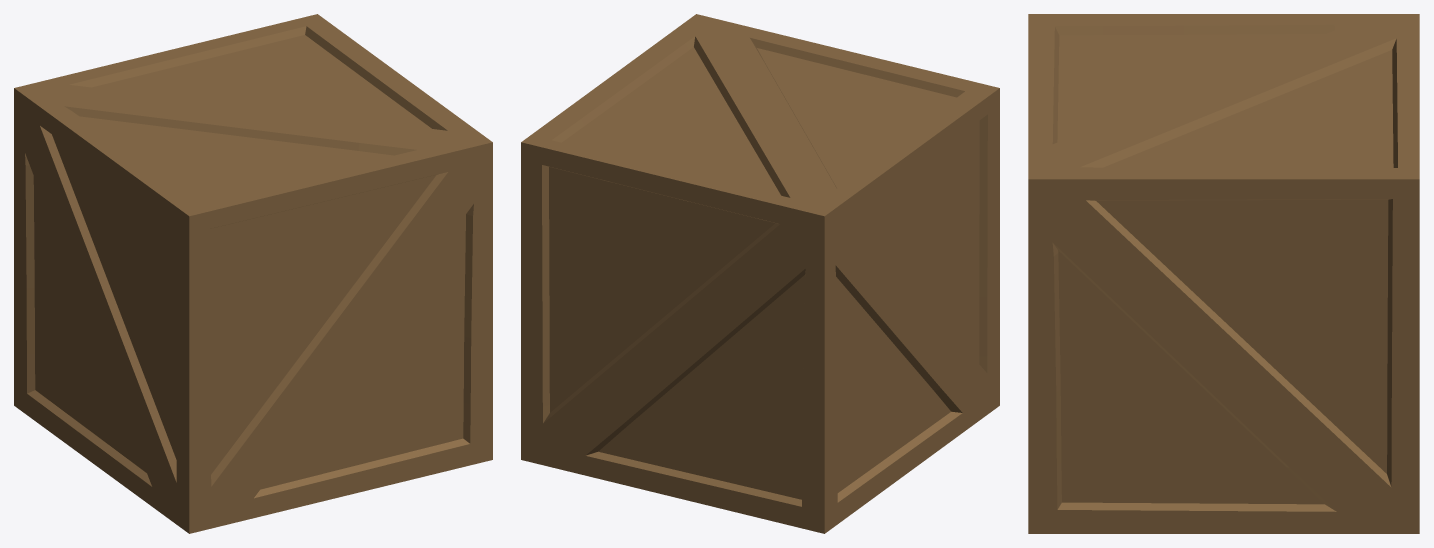
The model's file is Boxe_P3.fbx.
3 renders of one model, left to right at view 1: azimuth 30°, elevation 25°; view 2: azimuth 150°, elevation 25°; view 3: azimuth 270°, elevation 25°, orthographic. The views are drawn at different scales.
Visible parts, largest first — view 1: Box; view 2: Box; view 3: Box.
Part boxes in pixels (x1=…): Box: x1=14, y1=14, x2=492, y2=533; Box: x1=521, y1=14, x2=999, y2=533; Box: x1=1028, y1=14, x2=1419, y2=533.
Bounding box in the file's own units: 200 × 200 × 200.
